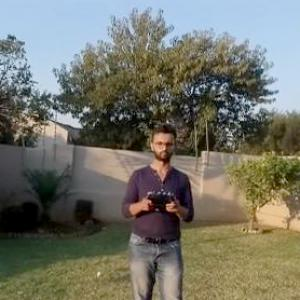follow: (120, 110, 203, 299)
